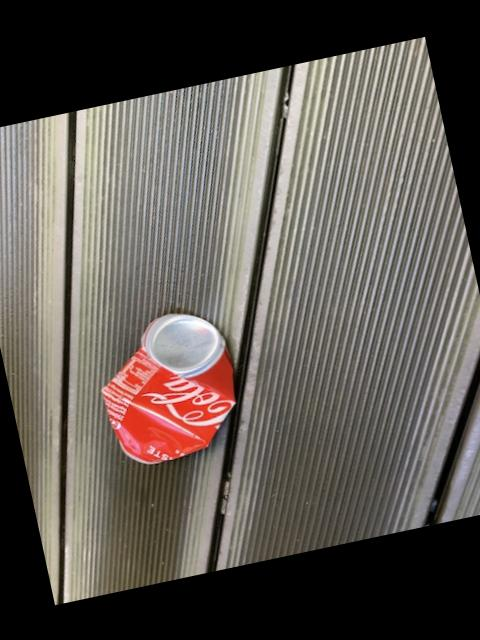metal: (101, 314, 234, 464)
